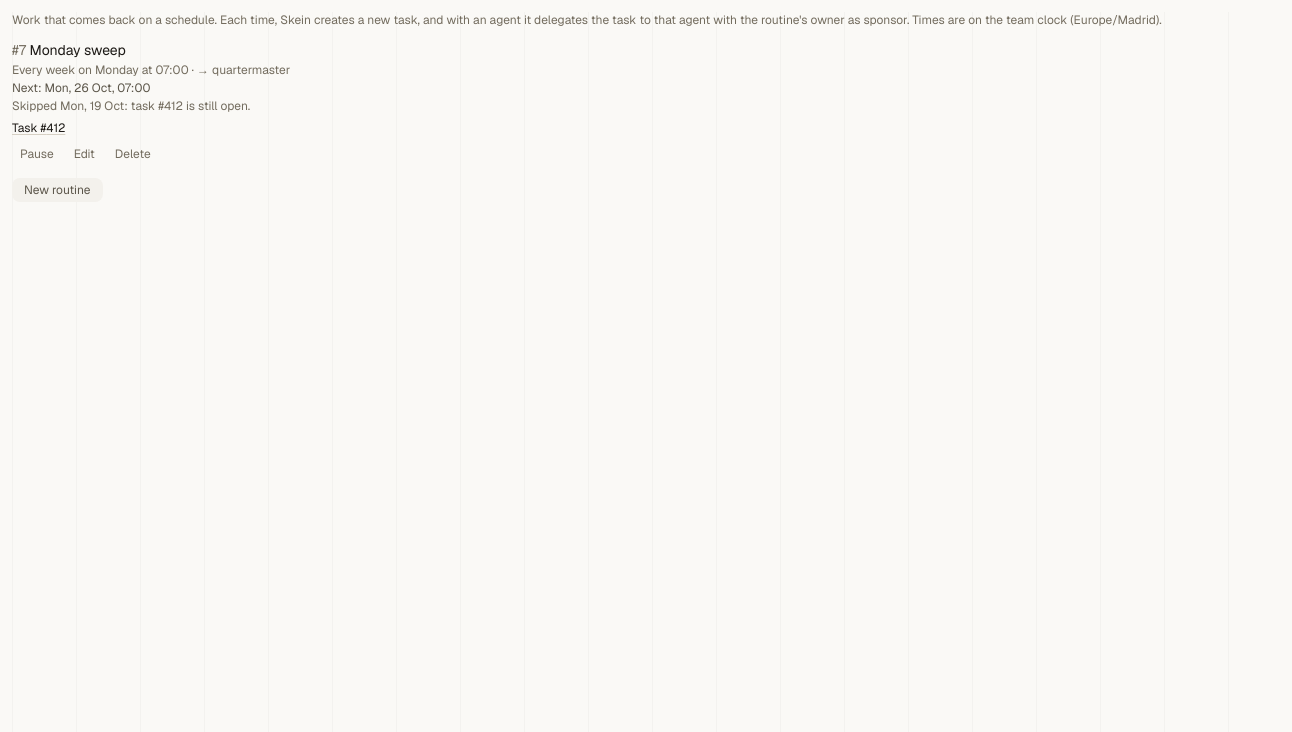
Test case: editing and deleting › closes an edit that changed nothing without a request
What coordinates should you click on to do the following:
click the button named "Edit routine #7"
I would click on:
 (84, 154)
Its box is [66,142,103,166].
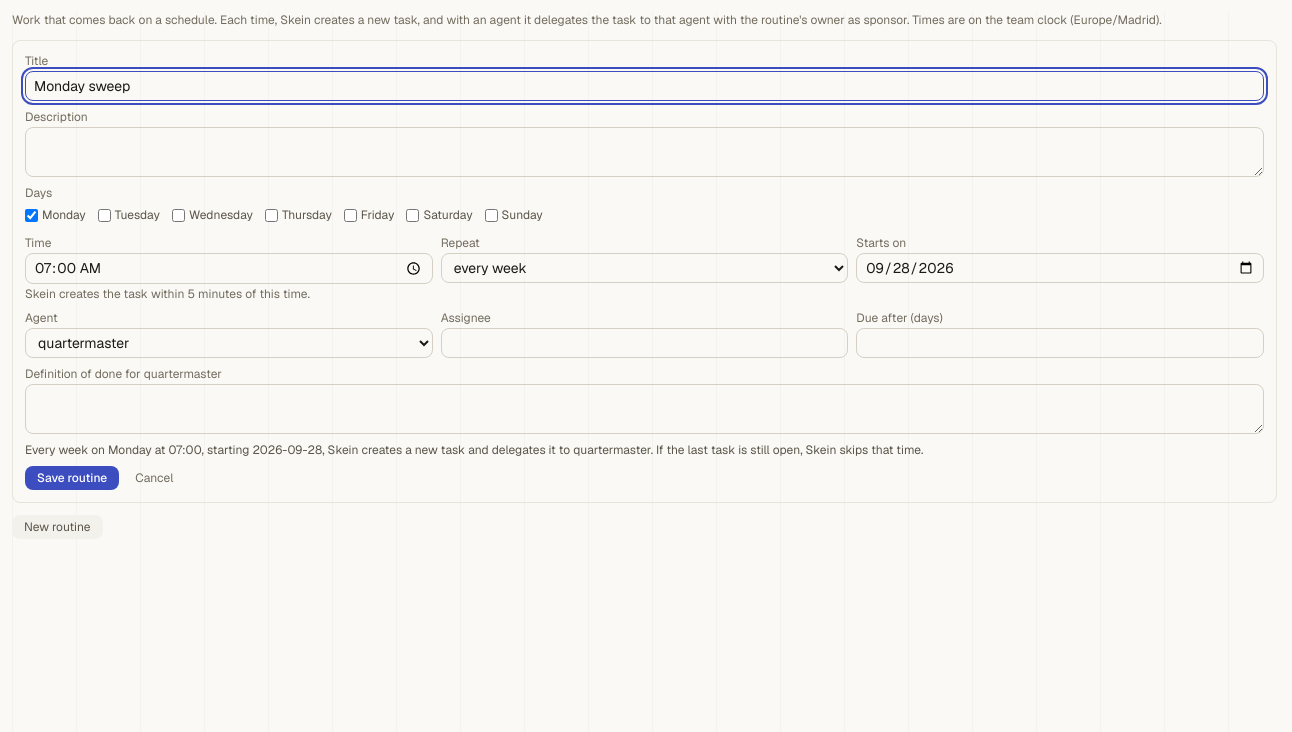
What coordinates should you click on to do the following:
click the button "Save routine"
I would click on:
 (72, 478)
Its box is [25,466,119,490].
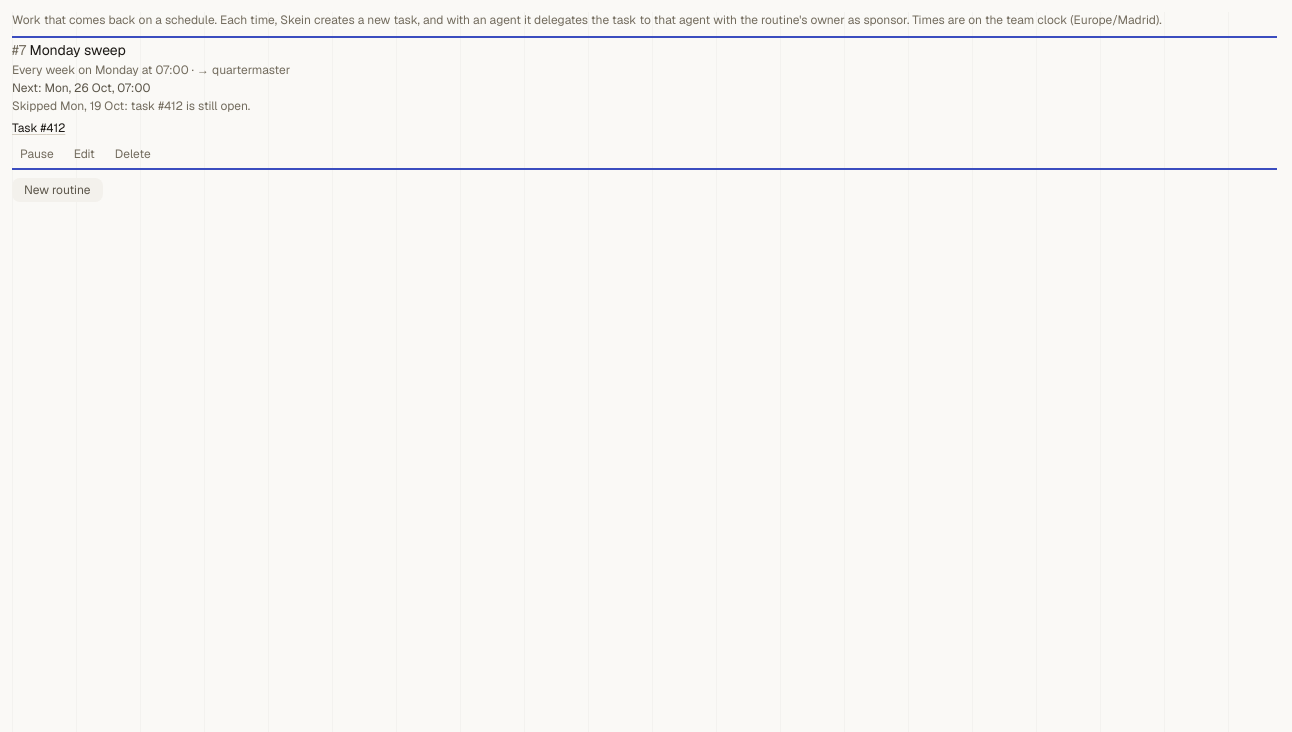
Result: the button "Save routine" is gone
